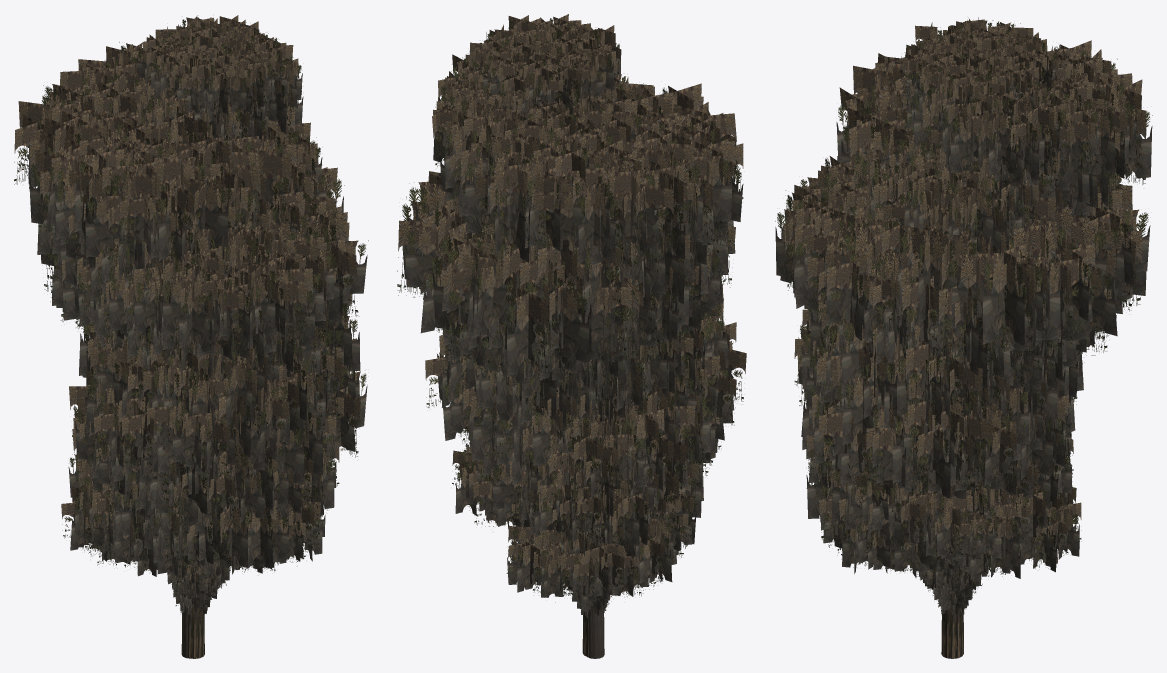
The model's file is pine_tree_01_lod1.glb.
The picture shows the model from 3 angles, left to right: view 1: azimuth 30°, elevation 25°; view 2: azimuth 150°, elevation 25°; view 3: azimuth 270°, elevation 25°; orthographic projection. The views are drawn at different scales.
Parts seen in each view (by area): view 1: pine_tree_01_a_LOD0_LOD1, pine_tree_01_c_LOD0_LOD1, pine_tree_01_b_LOD0_LOD1; view 2: pine_tree_01_a_LOD0_LOD1, pine_tree_01_c_LOD0_LOD1, pine_tree_01_b_LOD0_LOD1; view 3: pine_tree_01_a_LOD0_LOD1, pine_tree_01_c_LOD0_LOD1, pine_tree_01_b_LOD0_LOD1.
Part boxes in pixels (<box>): pine_tree_01_a_LOD0_LOD1: <box>14,15,349,658</box>; pine_tree_01_c_LOD0_LOD1: <box>61,122,368,658</box>; pine_tree_01_b_LOD0_LOD1: <box>52,237,367,620</box>; pine_tree_01_a_LOD0_LOD1: <box>397,14,743,657</box>; pine_tree_01_c_LOD0_LOD1: <box>436,197,746,658</box>; pine_tree_01_b_LOD0_LOD1: <box>425,236,728,617</box>; pine_tree_01_a_LOD0_LOD1: <box>806,17,1152,658</box>; pine_tree_01_c_LOD0_LOD1: <box>775,147,1082,653</box>; pine_tree_01_b_LOD0_LOD1: <box>792,200,1110,622</box>.
Bounding box in the file's own units: 10.41 × 20.46 × 11.11.
4 materials, 4 textured.
